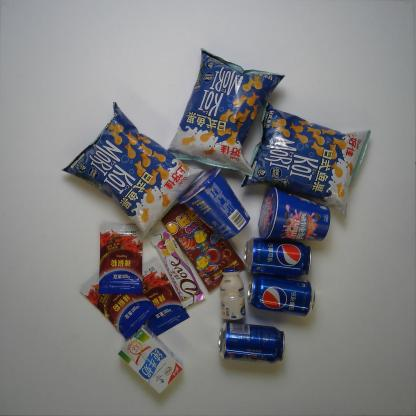Candy: (158, 200, 245, 294)
Chocolate: (150, 229, 206, 309)
Dessert: (178, 164, 252, 243), (257, 185, 333, 244)
Drink: (247, 274, 318, 320), (217, 320, 288, 366), (243, 235, 313, 278)
Milk: (117, 324, 187, 394), (218, 267, 247, 321)
Puffed Food: (59, 98, 205, 242), (165, 45, 287, 178), (240, 98, 373, 220)
Seasoner: (77, 267, 159, 342), (136, 256, 190, 339), (98, 224, 144, 295)
